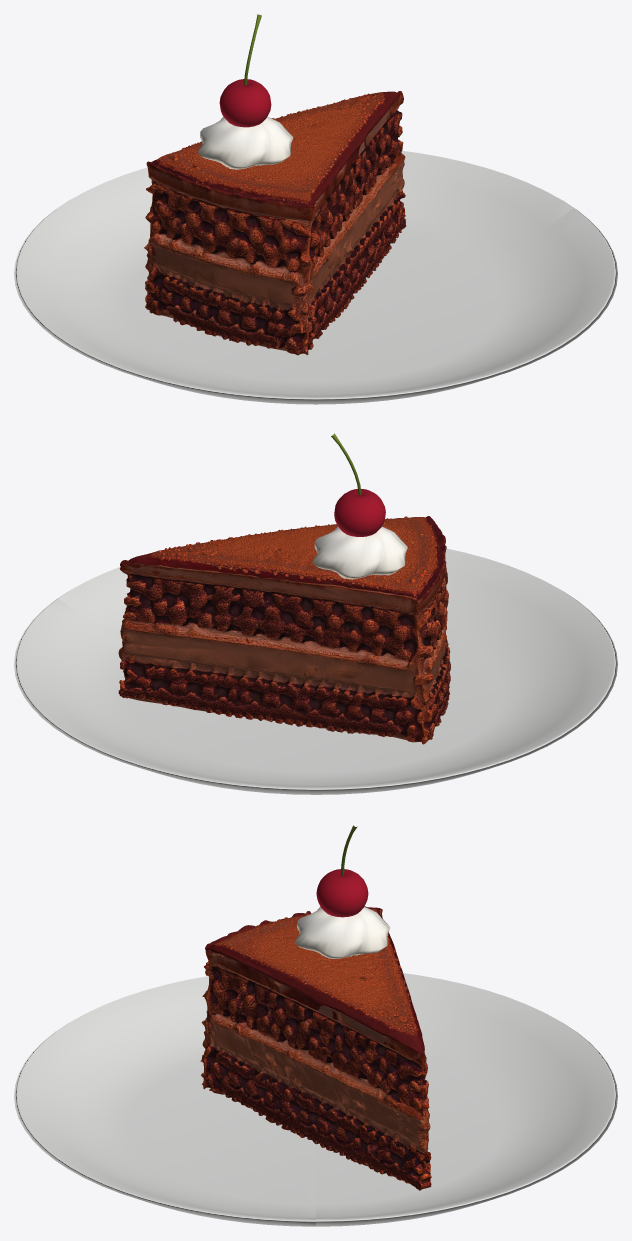
Rendered from pastel.glb.
3 renders of one model, top to bottom at view 1: azimuth 30°, elevation 25°; view 2: azimuth 150°, elevation 25°; view 3: azimuth 270°, elevation 25°, orthographic.
Visible parts, largest first — view 1: plato, tripo_node_424df489-dc50-4736-9e20-6e79c28d7e29, cereza; view 2: plato, tripo_node_424df489-dc50-4736-9e20-6e79c28d7e29, cereza; view 3: plato, tripo_node_424df489-dc50-4736-9e20-6e79c28d7e29, cereza.
Boxes of the visible parts, x1,y1,x2,y2 form: plato: [14, 151, 617, 404]; tripo_node_424df489-dc50-4736-9e20-6e79c28d7e29: [144, 91, 406, 355]; cereza: [198, 14, 293, 169]; plato: [14, 548, 617, 794]; tripo_node_424df489-dc50-4736-9e20-6e79c28d7e29: [118, 516, 450, 744]; cereza: [312, 433, 407, 579]; plato: [14, 973, 617, 1226]; tripo_node_424df489-dc50-4736-9e20-6e79c28d7e29: [200, 906, 431, 1190]; cereza: [295, 825, 390, 958].
Bounding box in the file's own units: 0.274 × 0.1479 × 0.274.
5 materials, 4 textured.
